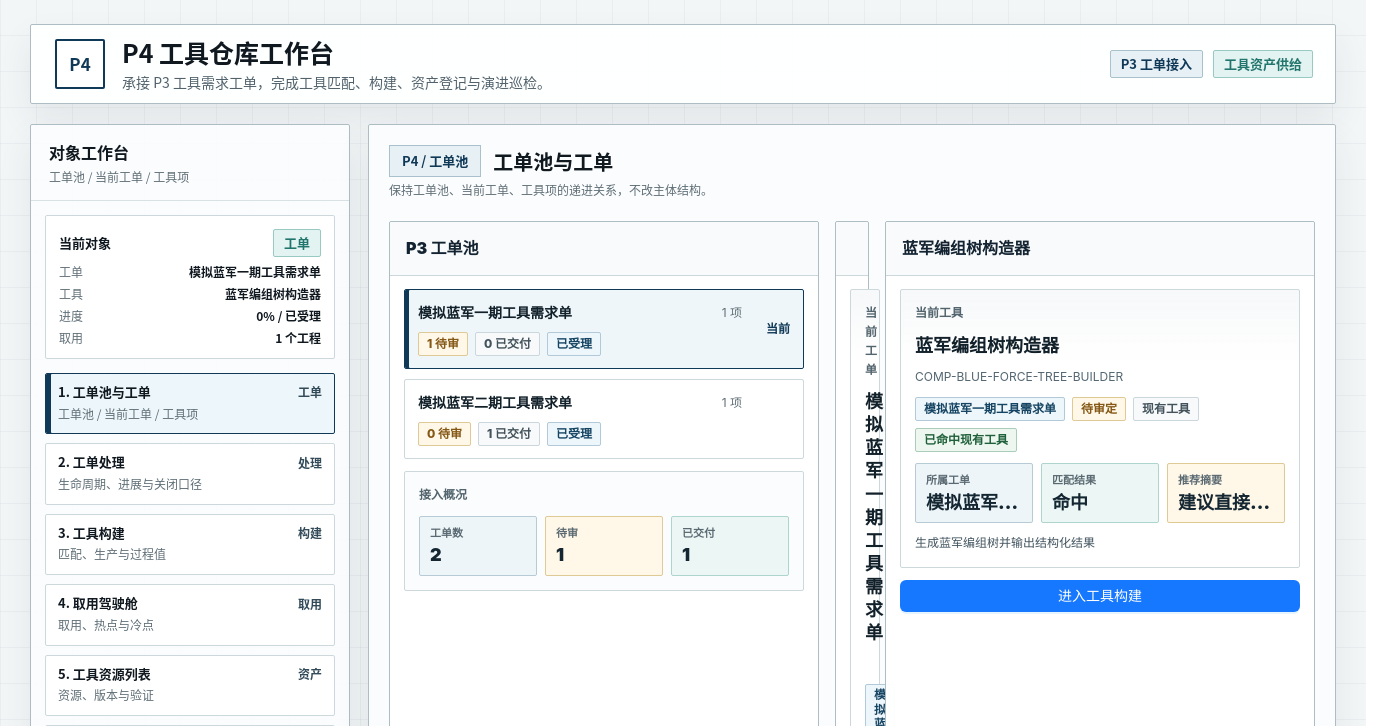
Test case: shows simulated manufacture queue in registry workspace
Step 1. Click the tab "5. 工具资源列表 资产 资源、版本与验证" → (104, 673), box x1=45 y1=654 x2=335 y2=716
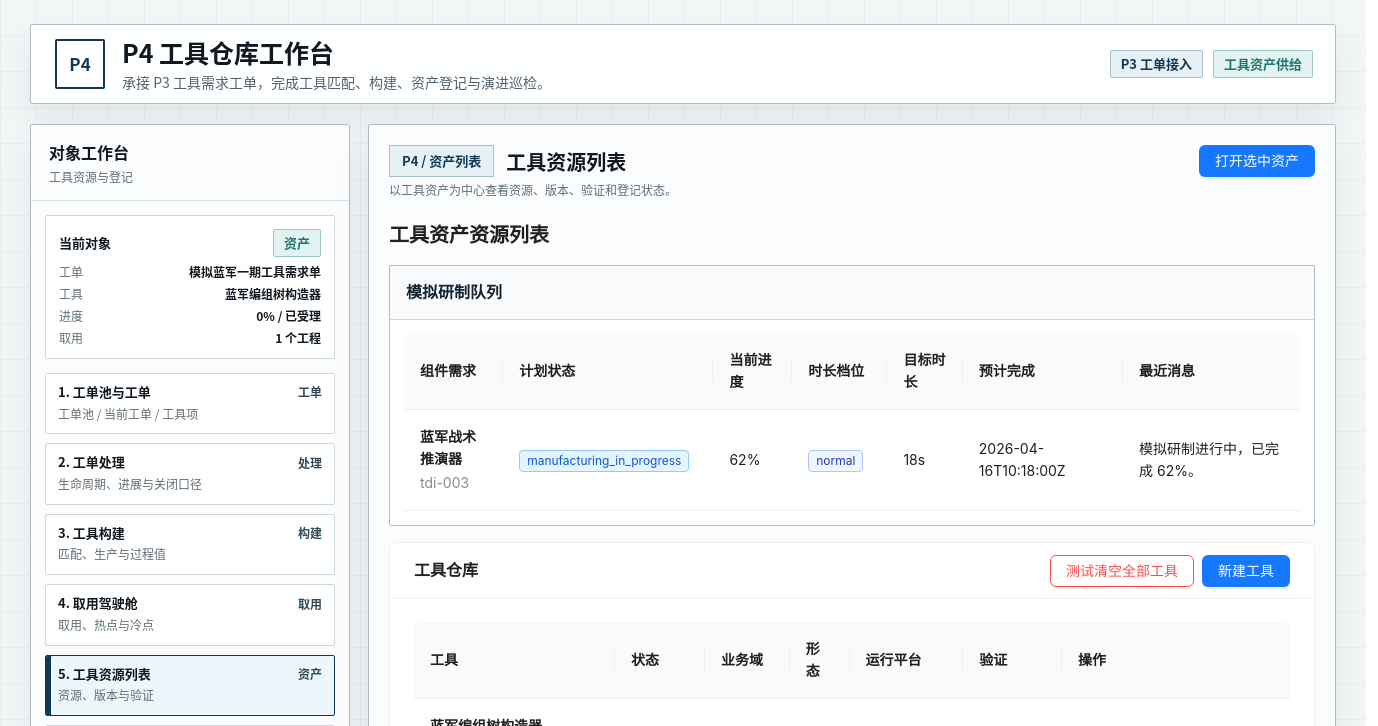
Check: the text "模拟研制队列" is shown, box x1=406 y1=282 x2=502 y2=302
Check: the element with id "xx-p4-registry-manufacture-queue" shows "蓝军战术推演器", box x1=420 y1=428 x2=476 y2=467
Check: the element with id "xx-p4-registry-manufacture-queue" shows "manufacturing_in_progress", box x1=527 y1=452 x2=682 y2=468
